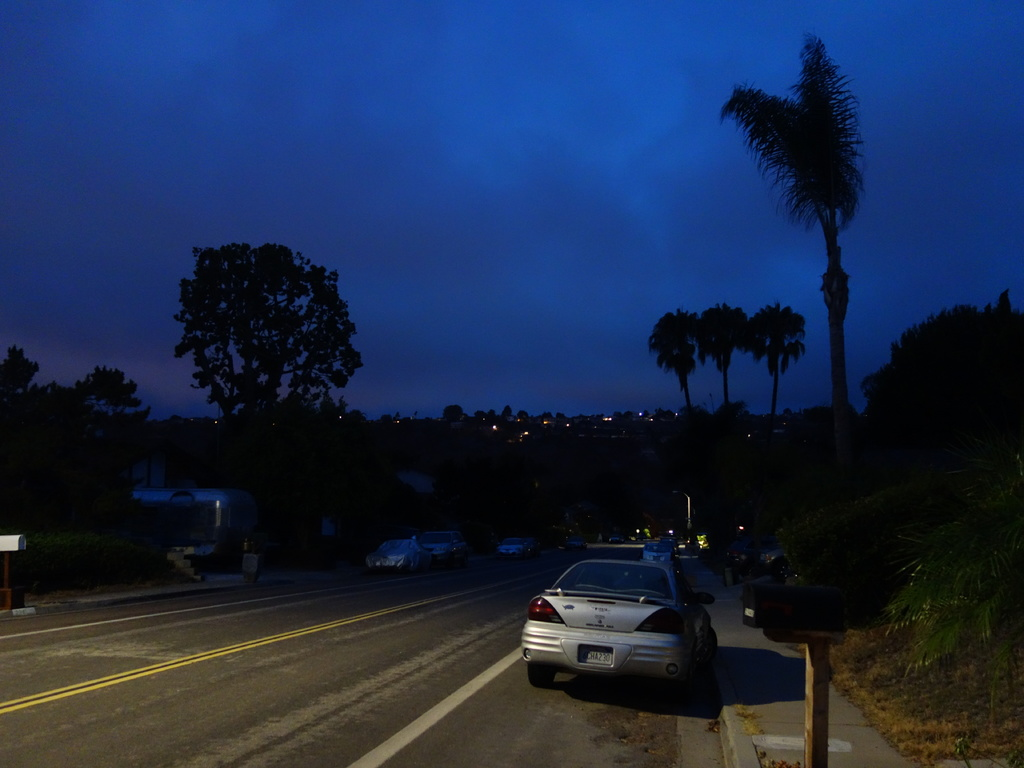Car: (521, 558, 717, 691), (361, 533, 544, 571)
